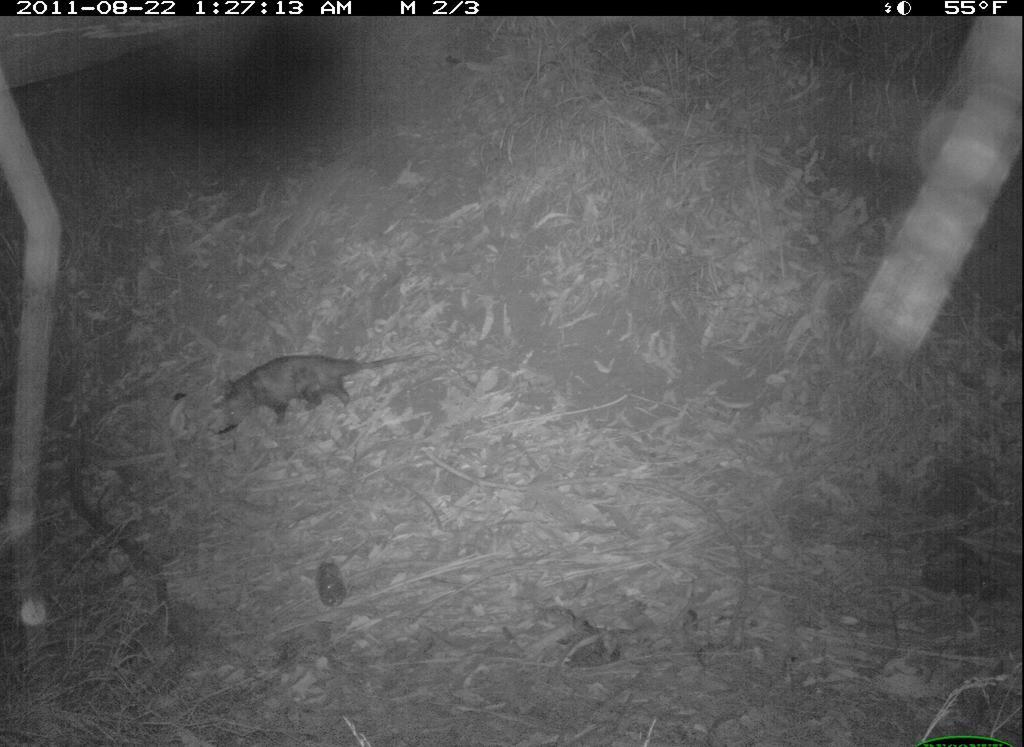opossum: (208, 347, 438, 434)
